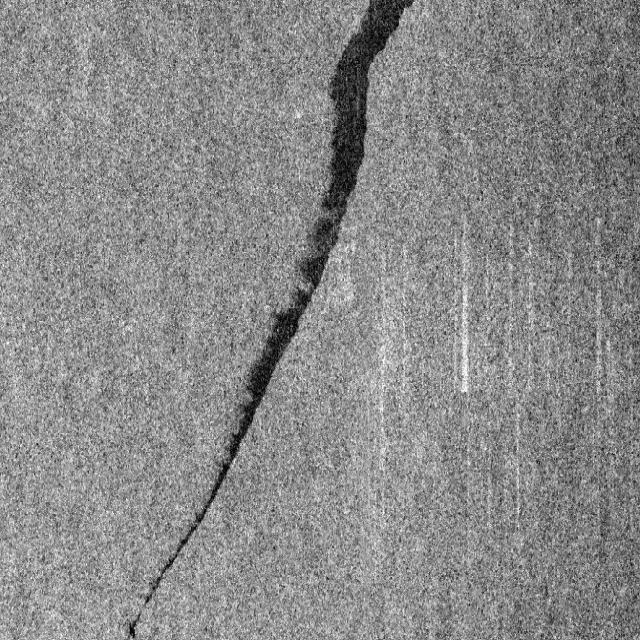oil-spill: (122, 308, 292, 636), (289, 1, 417, 312)
